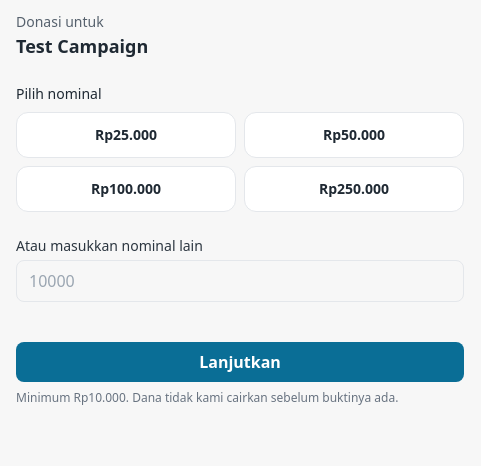
Scenario: (consumer) campaign/[slug]/donation-amount rendering › rejects non-numeric input with a message about the format
Type "50.000" into the field labelled "Atau masukkan nominal lain" at (240, 281), box 16,260 -> 464,302
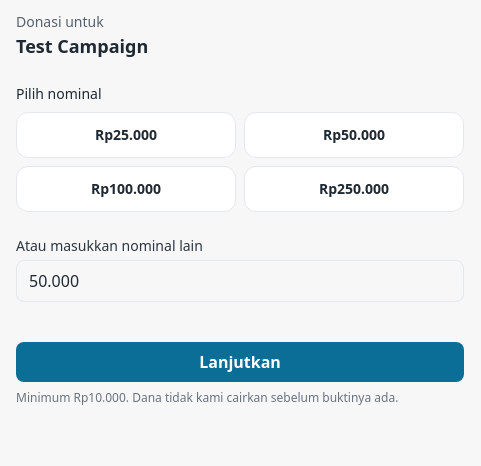
Click the button "Lanjutkan" at (240, 362), box 16,342 -> 464,382
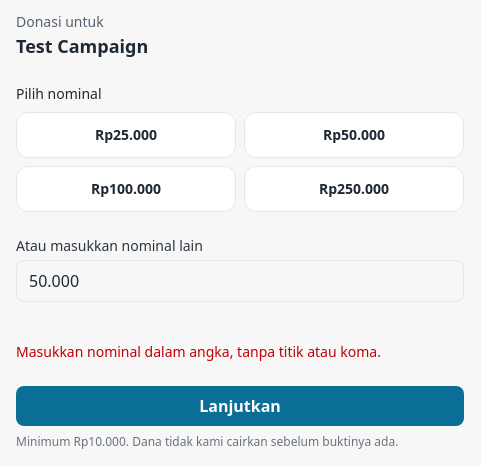
Expected: the message shows "tanpa titik", 16,342 -> 381,361
